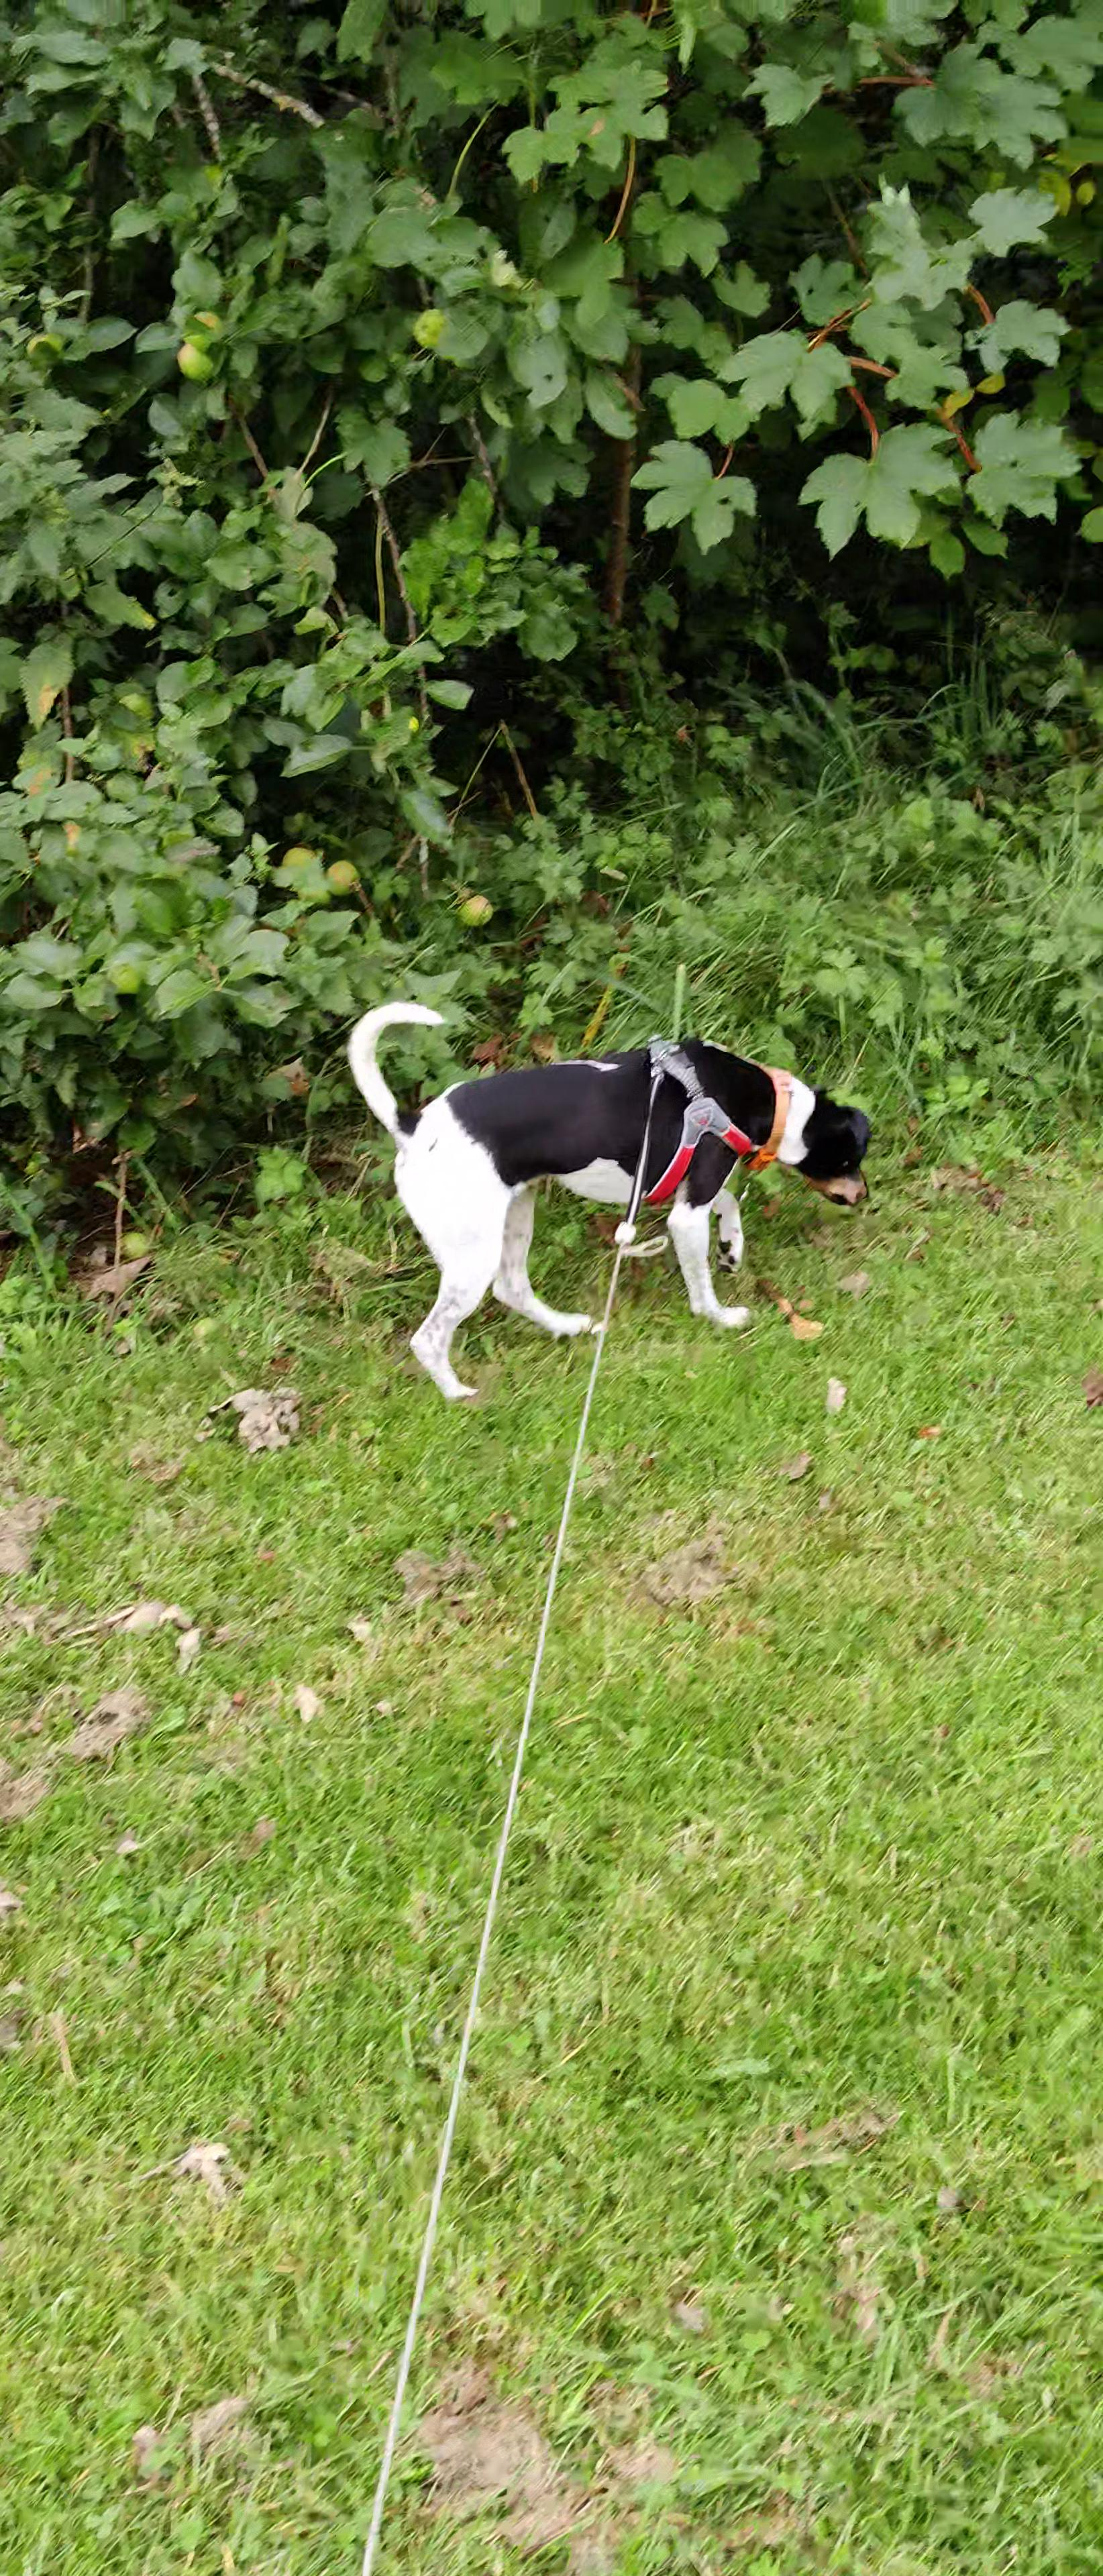Dog: (335, 997, 879, 1408)
